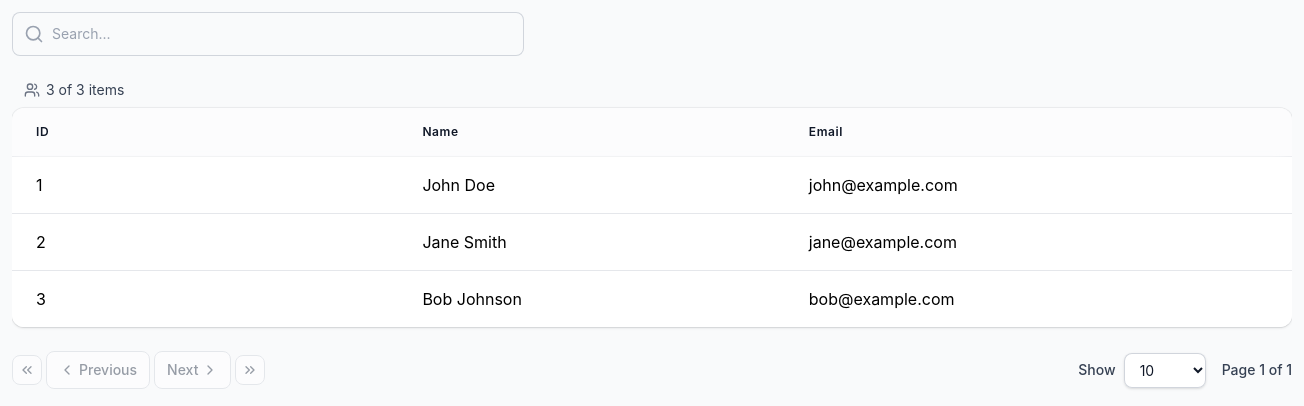
Test: GenericDataTable › handles sorting when column headers are clicked
The width and height of the screenshot is (1304, 406).
Step 1. Click the column heading "Name" → click(592, 132), box x1=398 y1=108 x2=785 y2=156
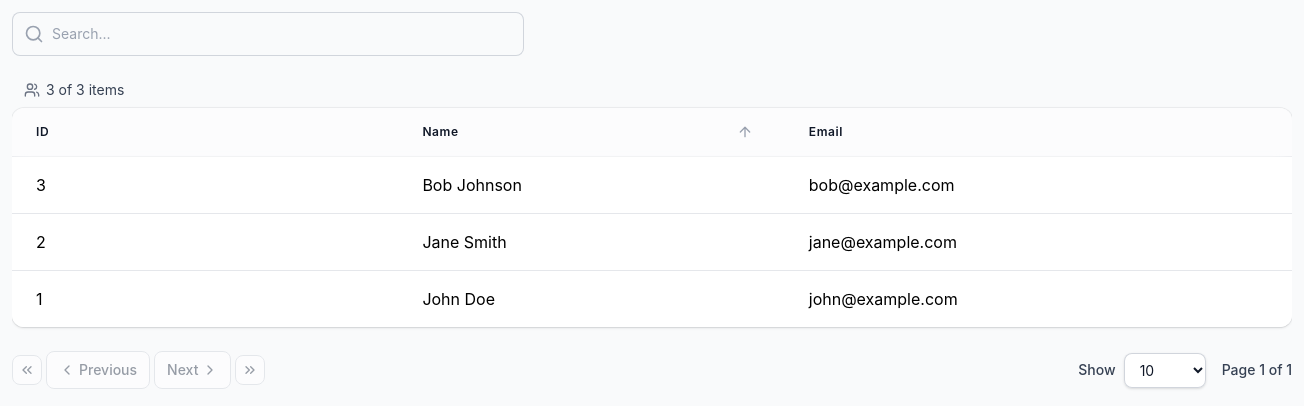
Check: the row "3 Bob Johnson bob@example.com" is shown, box x1=12 y1=156 x2=1292 y2=214
Check: the icon with test id "arrow-up" is shown, box x1=737 y1=124 x2=753 y2=140
Note: Click again for descending sort
Step 2. Click the column heading "Name" → click(592, 132), box x1=398 y1=108 x2=785 y2=156
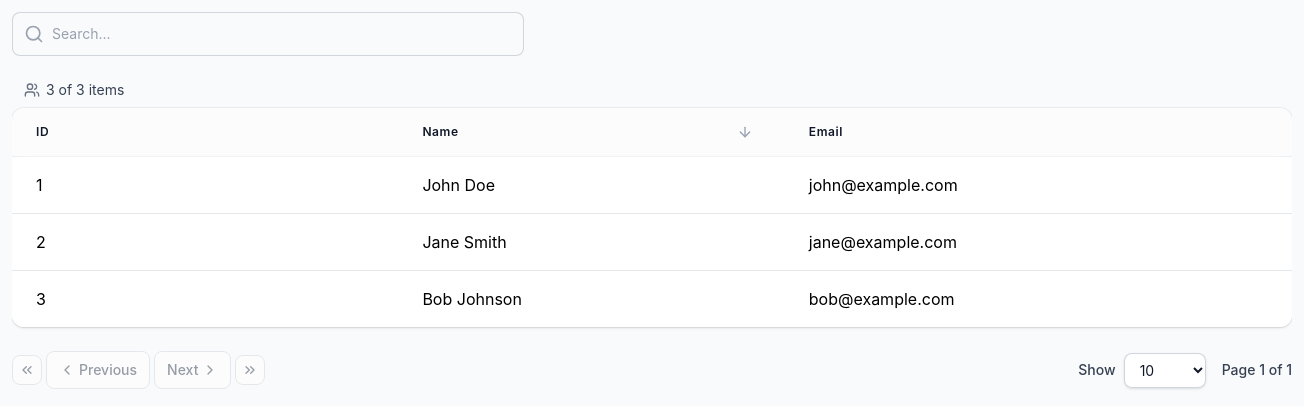
Check: the row "1 John Doe john@example.com" is shown, box x1=12 y1=156 x2=1292 y2=214
Check: the icon with test id "arrow-down" is shown, box x1=737 y1=124 x2=753 y2=140
Check: the icon with test id "arrow-up" is gone
